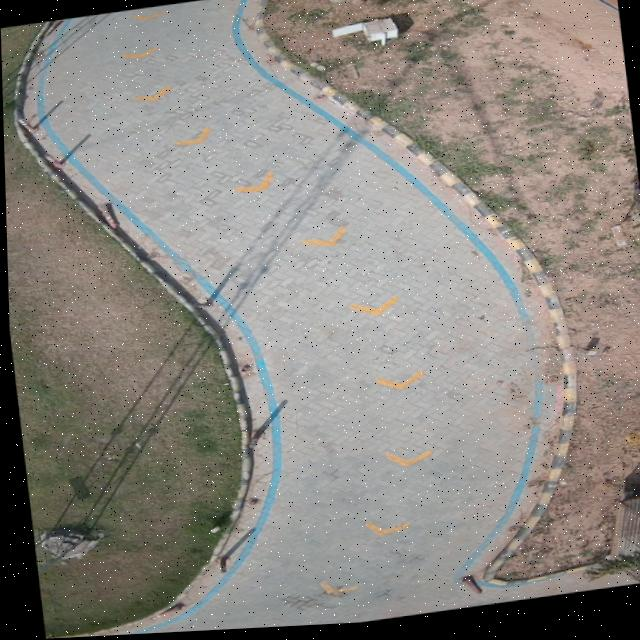No Car: (1, 0, 640, 639)
